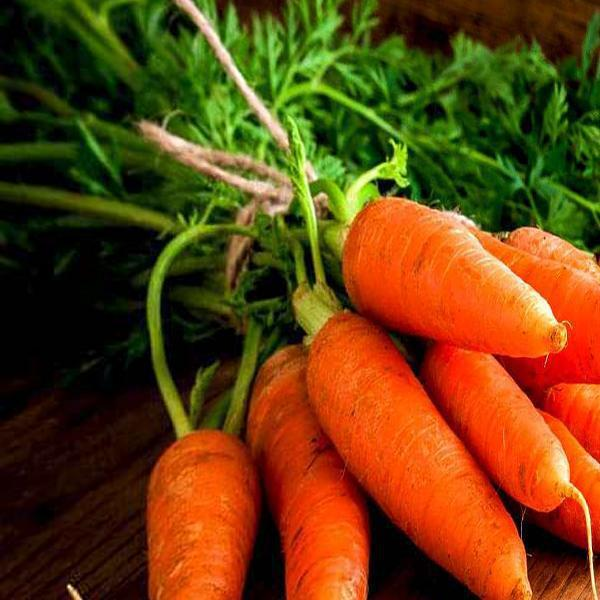carrot: (0, 6, 600, 600), (147, 180, 600, 600), (250, 300, 524, 600), (320, 187, 567, 366), (147, 391, 265, 600)
